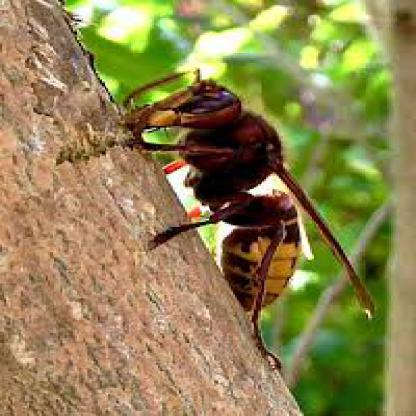european: (115, 58, 383, 346)
